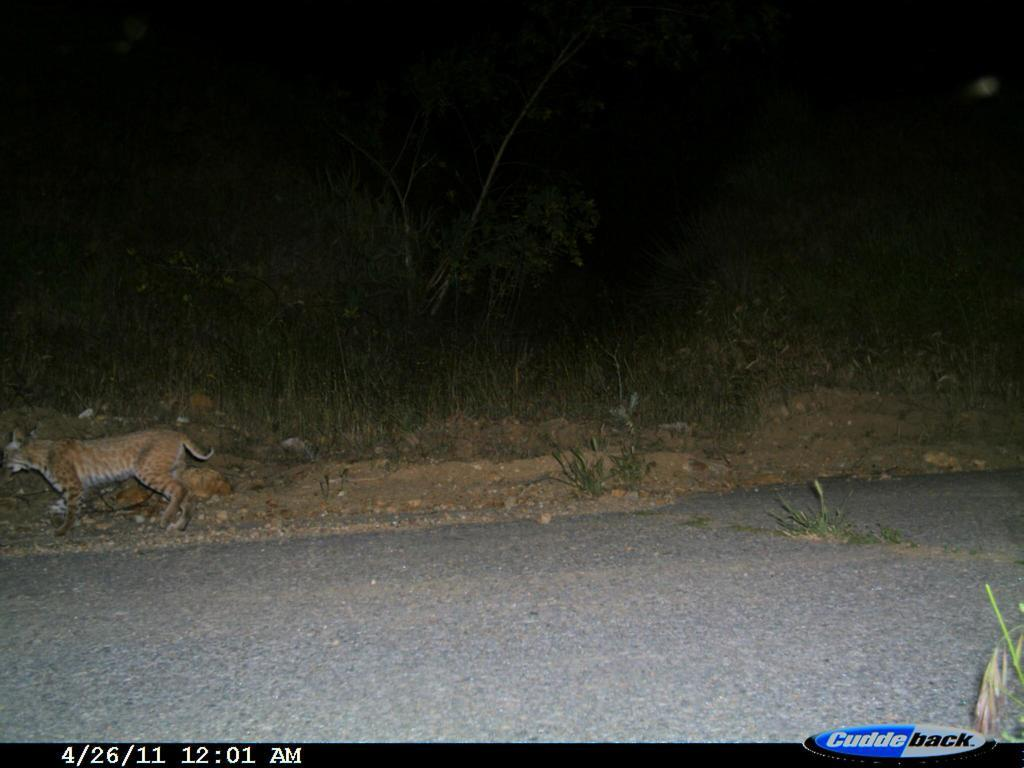bobcat: (7, 406, 231, 548)
